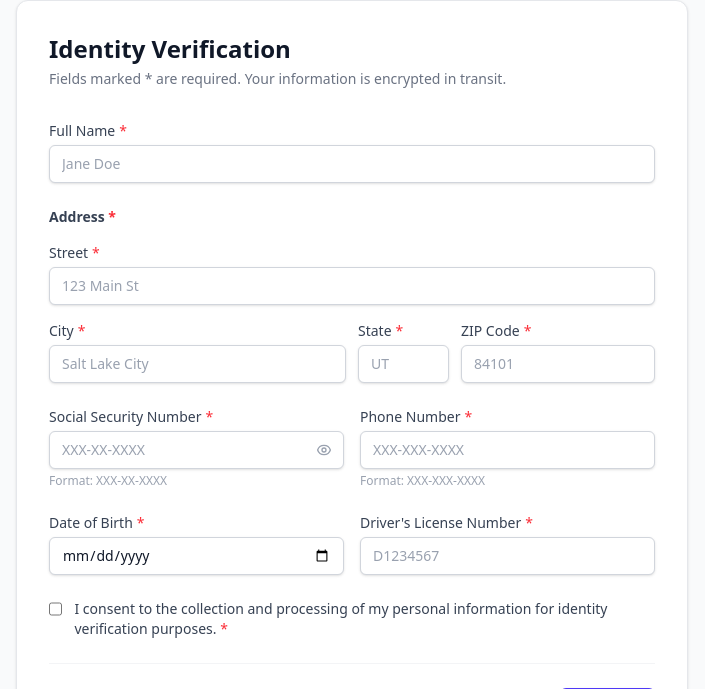
Test: IdentityForm — SSN toggle › clicking Hide SSN masks the value again
The image size is (705, 689).
Click the button named "show ssn" at (324,450), box [316,442,332,458]
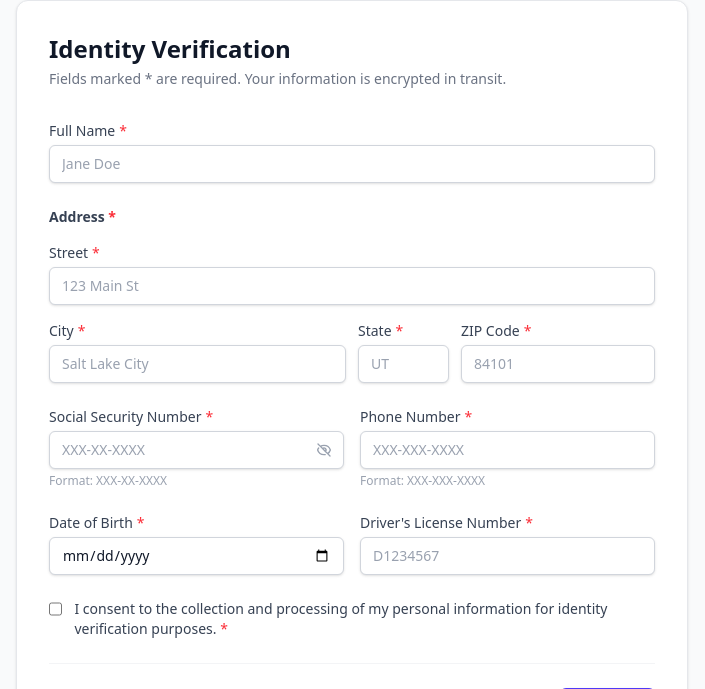
Type "123456789" into the field labelled "Social Security Number*" at (196,450), box [49,431,344,469]
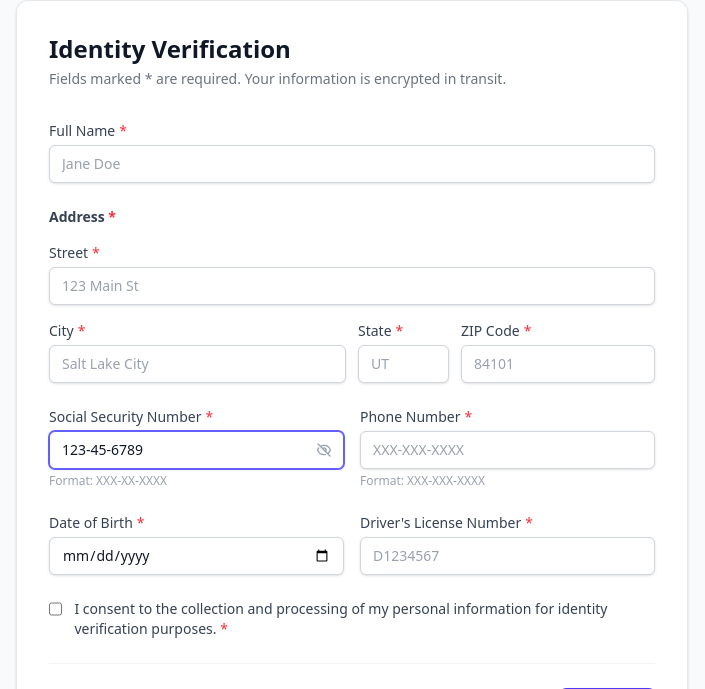
Click the button named "hide ssn" at (324,450), box [316,442,332,458]
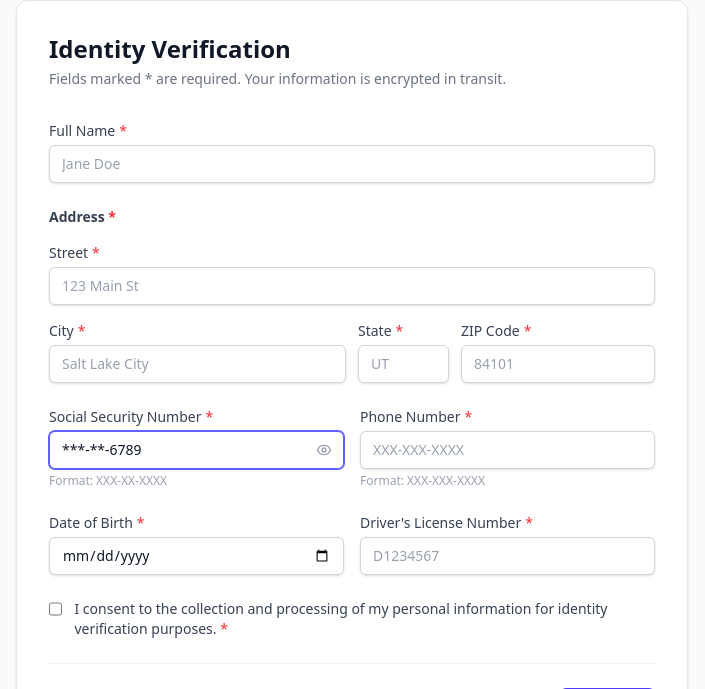
Expected: the field labelled "Social Security Number*" holds "***-**-6789", [49,431,344,469]
